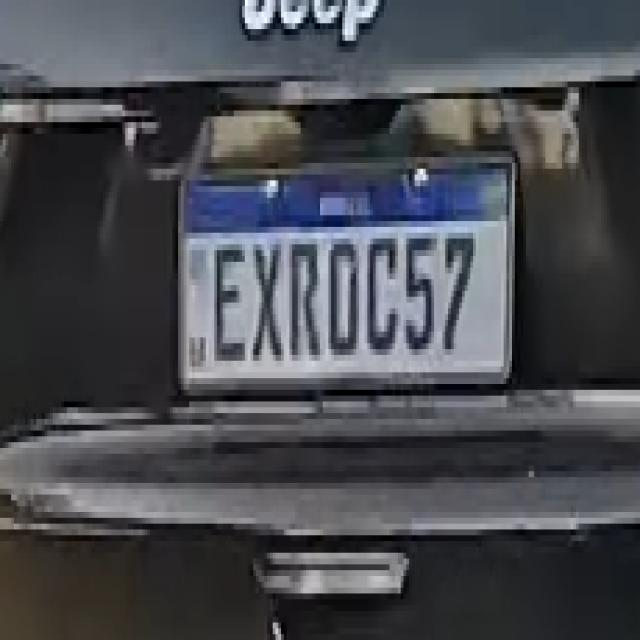Placa_mercosul_carro: (178, 146, 518, 401)
